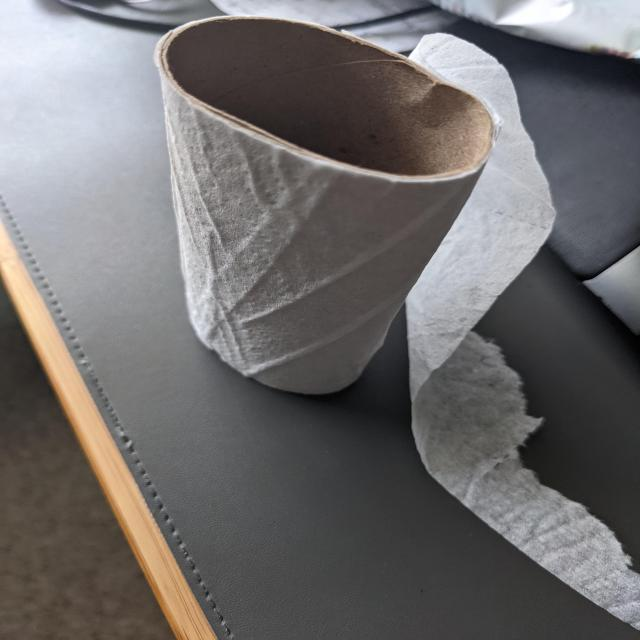litter: (165, 14, 635, 626)
